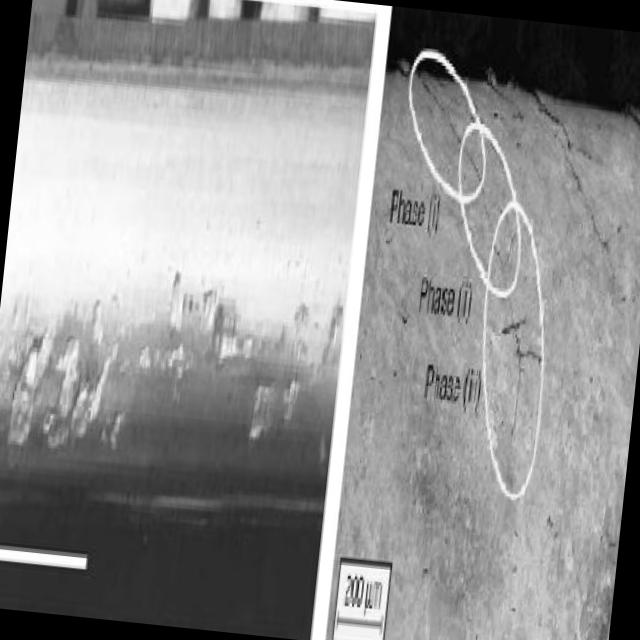defective: (0, 243, 356, 517)
